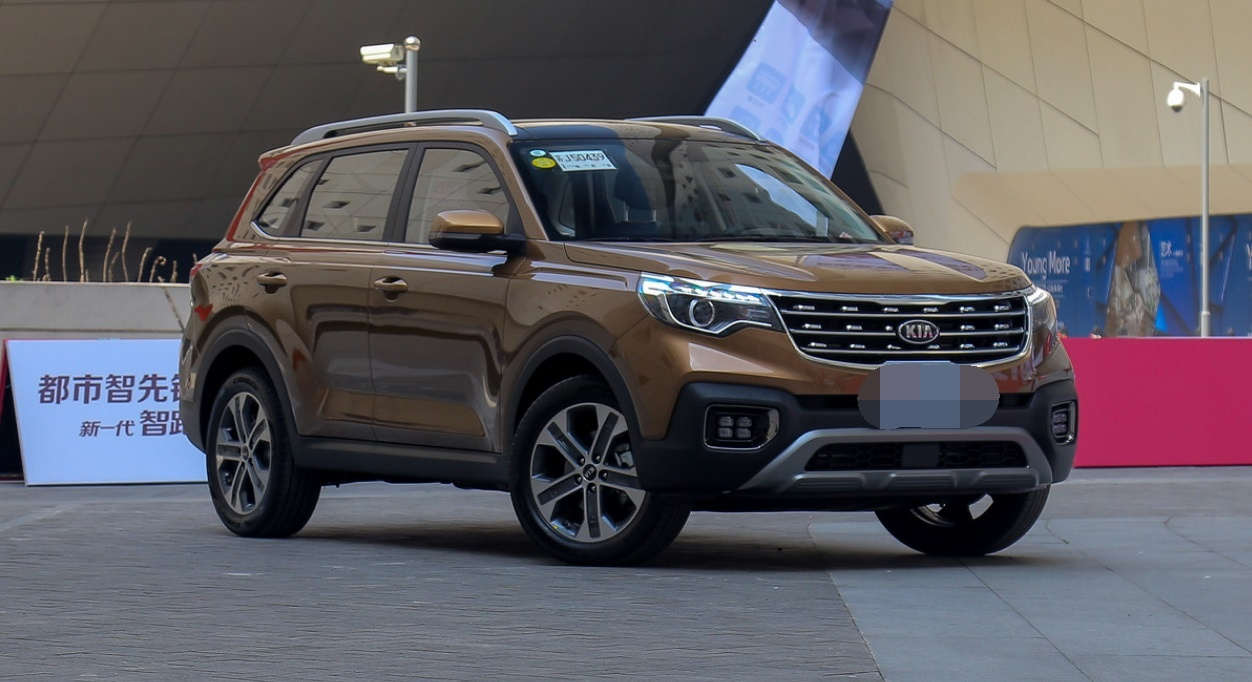SUV: (180, 105, 1080, 564)
